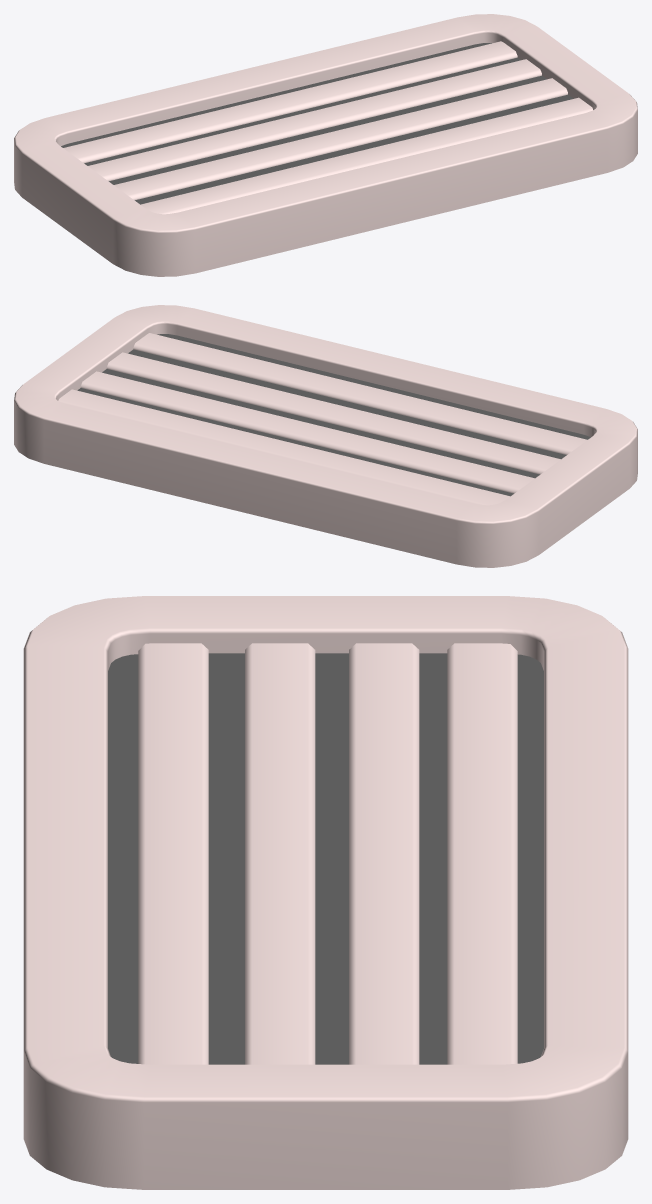
File: City_20_Drain_Hatch_1.glb
The picture shows the model from 3 angles, top to bottom: view 1: azimuth 30°, elevation 25°; view 2: azimuth 150°, elevation 25°; view 3: azimuth 270°, elevation 25°; orthographic projection. The views are drawn at different scales.
Parts seen in each view (by area): view 1: City_20_Drain_Hatch_1; view 2: City_20_Drain_Hatch_1; view 3: City_20_Drain_Hatch_1.
Boxes of the visible parts, x1,y1,x2,y2 form: City_20_Drain_Hatch_1: (14, 14, 637, 276); City_20_Drain_Hatch_1: (14, 305, 637, 567); City_20_Drain_Hatch_1: (23, 596, 628, 1189).
Size of the model in its own units: 1.59 by 0.1345 by 0.8069.
1 material, 1 textured.
